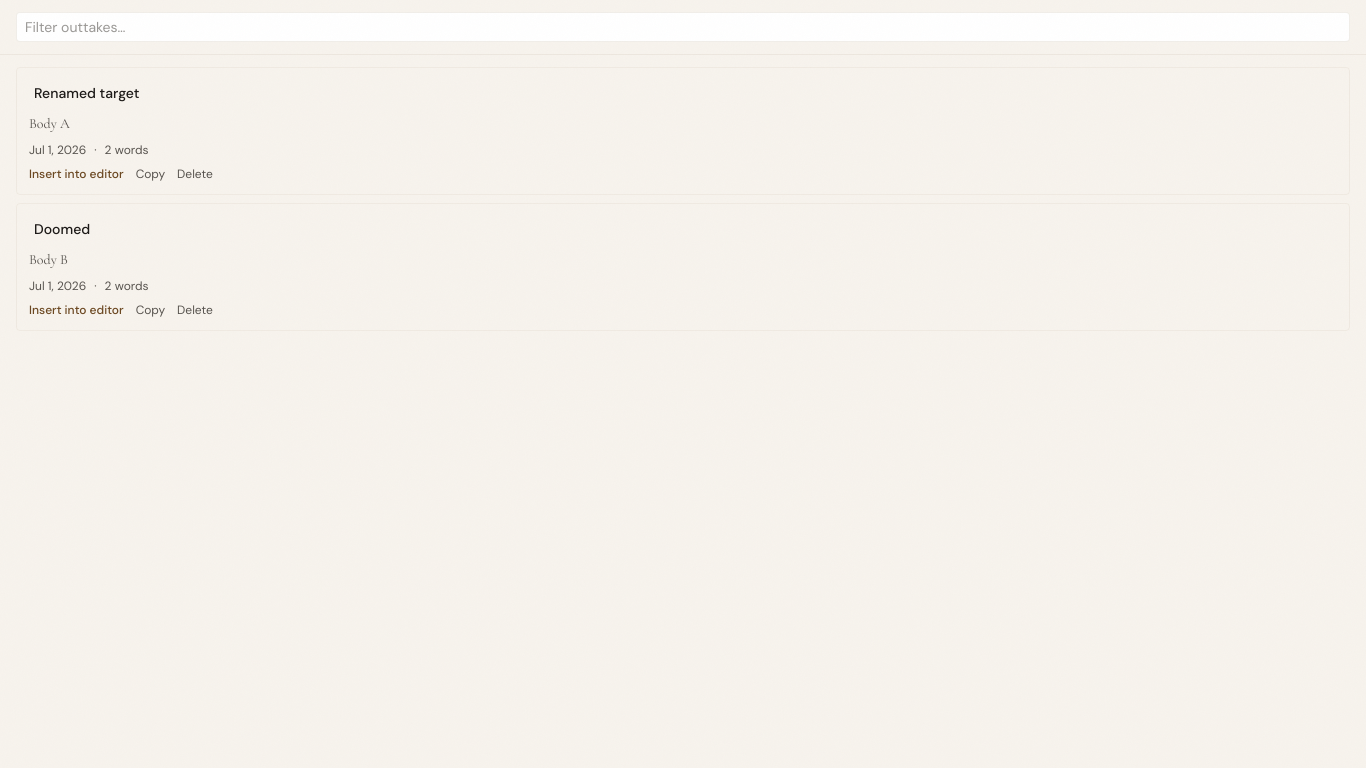
Test: OuttakesPanel › a delete does not abort an in-flight label update (independent ops)
Note: Start an in-flight label update on row "a".
Replace the text in the 1st field showing "Renamed target" with "New A label": point(683, 93) [29,80,1337,106]
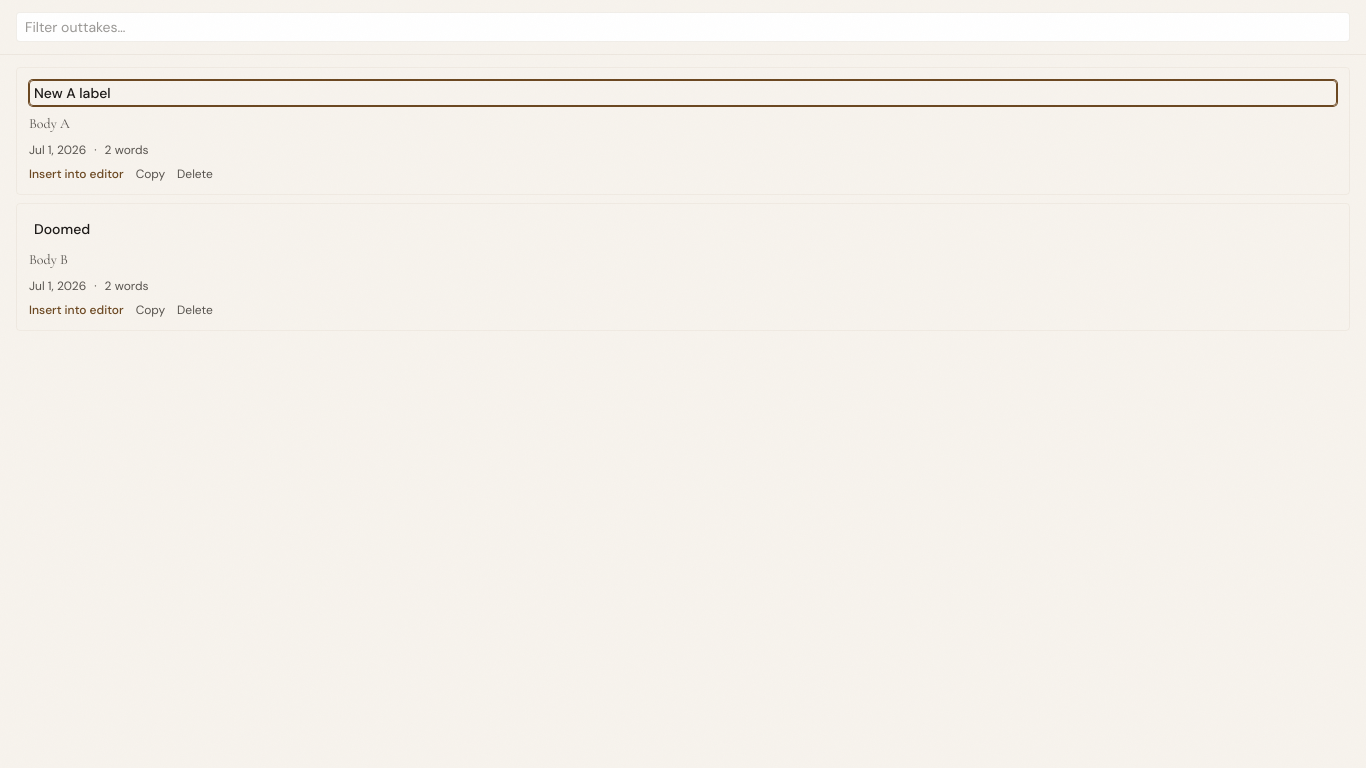
Press Tab
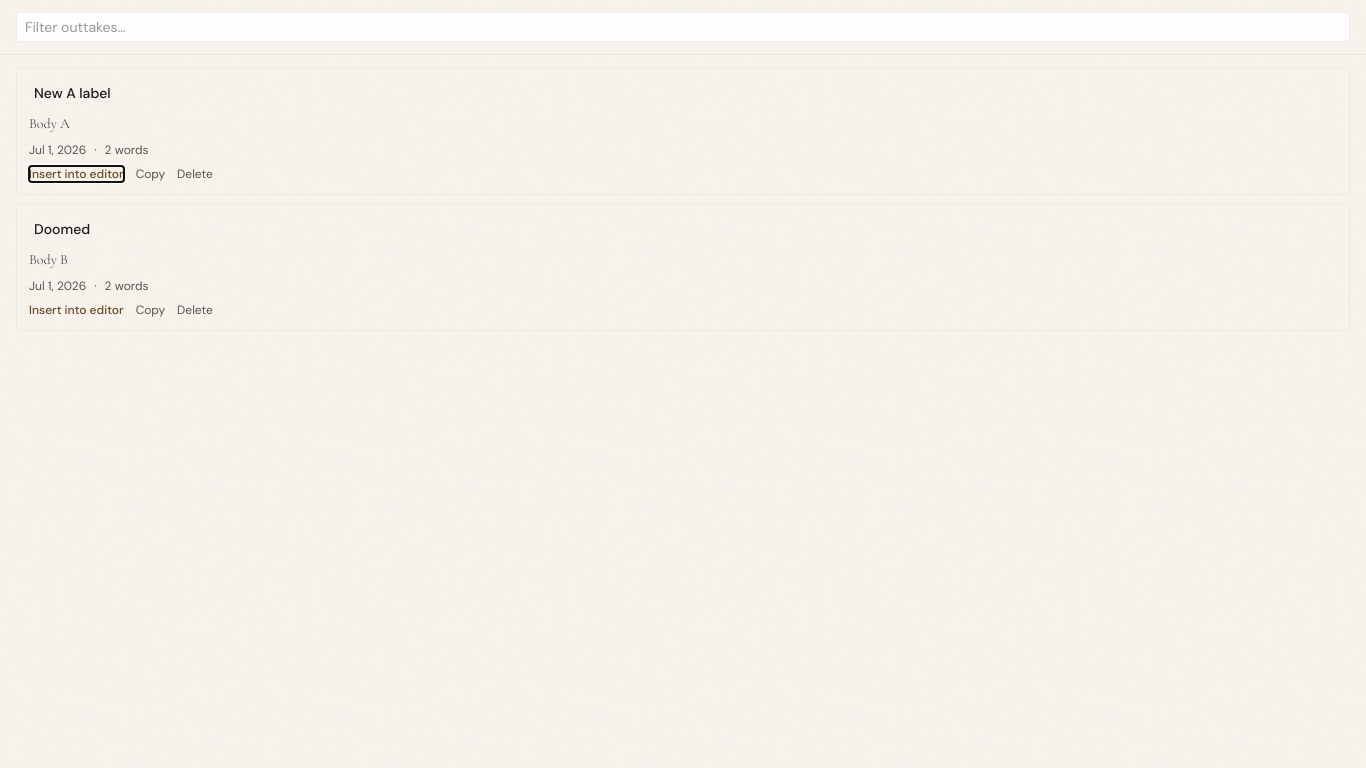
Click the button "Delete" below "Body B": point(195, 310) [177,302,213,318]
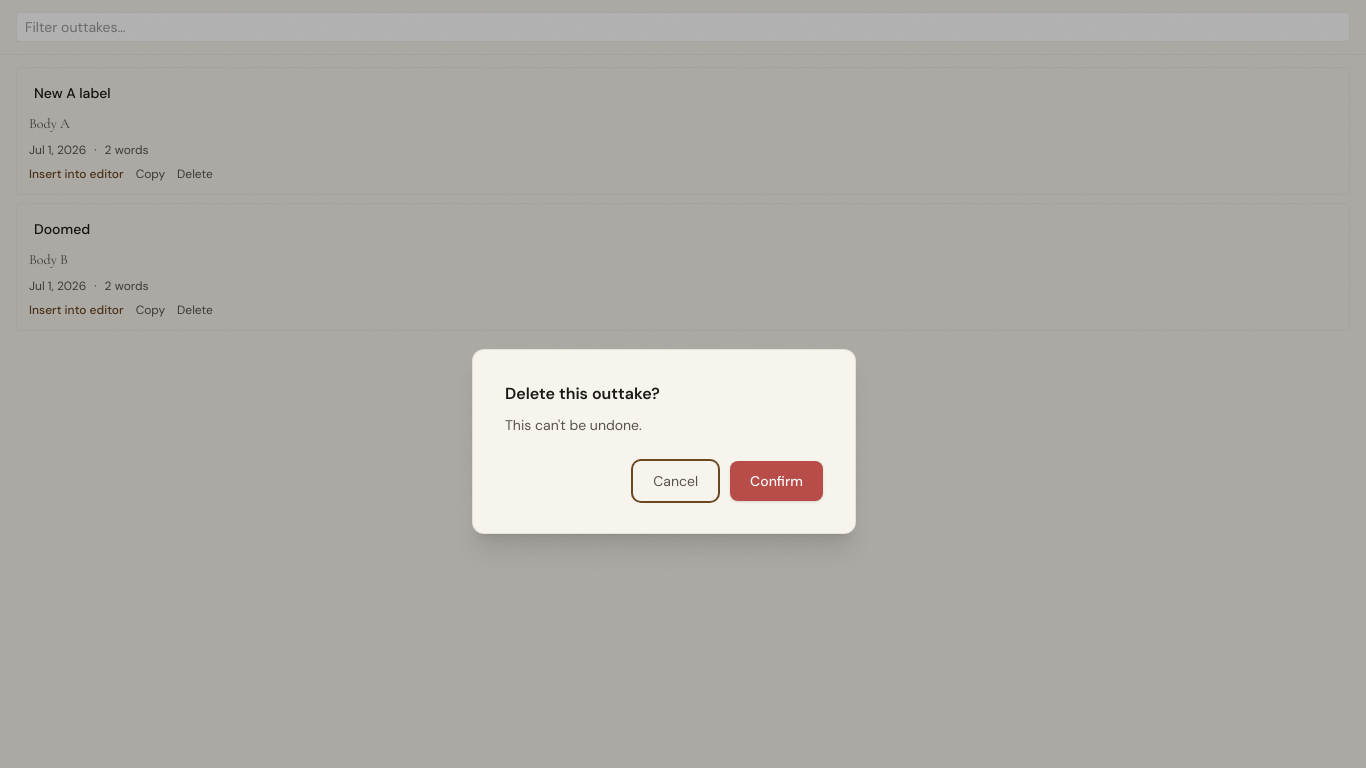
Click the button "Confirm": point(777, 481) [730,461,823,501]
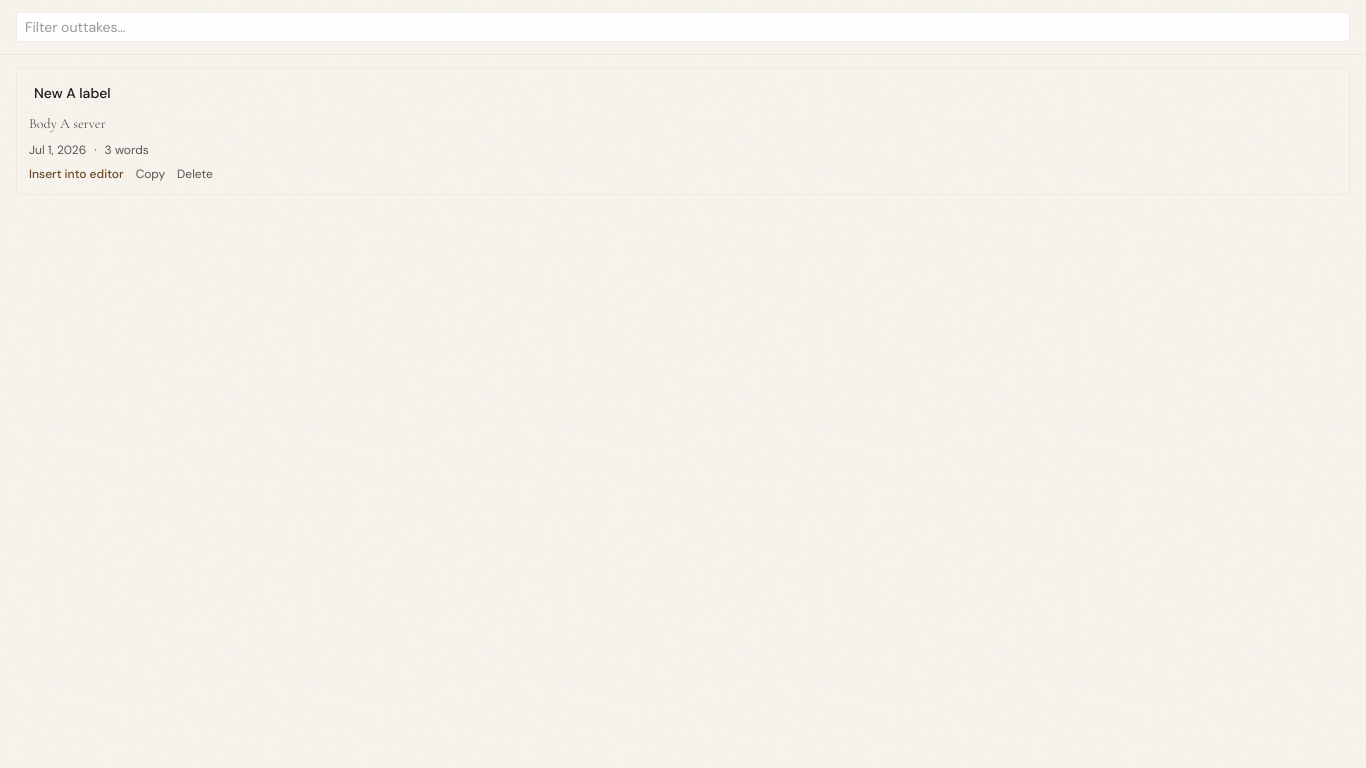
Check: the field showing "Doomed" is not shown
Check: the text "Body A server" is shown, box [29,115,106,132]
